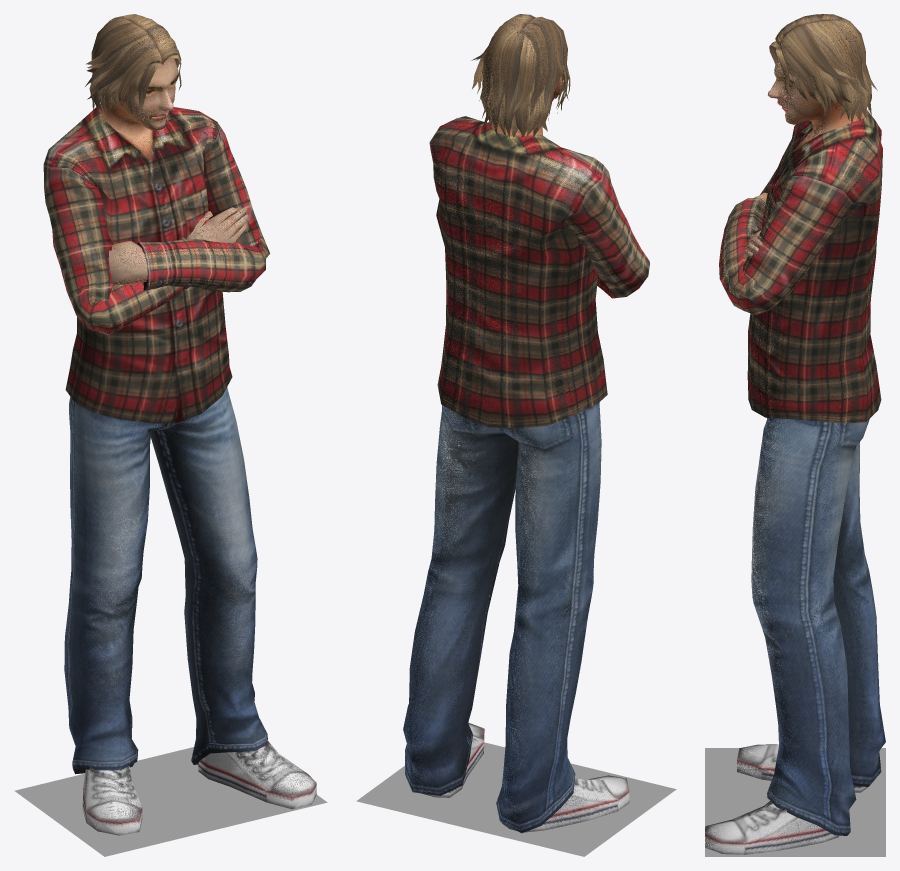
File: Hombre1.obj
The picture shows the model from 3 angles, left to right: view 1: azimuth 30°, elevation 25°; view 2: azimuth 150°, elevation 25°; view 3: azimuth 270°, elevation 25°; orthographic projection. The views are drawn at different scales.
Visible parts, largest first — view 1: 5_6, 2_3, ground_1, 1_2, 54_55, 6_7, 3_4, 9_10, 7_8; view 2: 5_6, 2_3, ground_1, 54_55, 6_7, 1_2; view 3: 5_6, 2_3, ground_1, 54_55, 1_2, 3_4, 6_7, 16_17.
Part boxes in pixels (x1=…): 5_6: x1=64, y1=387, x2=267, y2=774; 2_3: x1=43, y1=103, x2=269, y2=423; ground_1: x1=14, y1=747, x2=327, y2=856; 1_2: x1=198, y1=740, x2=316, y2=809; 54_55: x1=85, y1=14, x2=181, y2=108; 6_7: x1=82, y1=766, x2=142, y2=835; 3_4: x1=99, y1=58, x2=178, y2=138; 9_10: x1=187, y1=206, x2=249, y2=243; 7_8: x1=108, y1=241, x2=147, y2=285; 5_6: x1=403, y1=402, x2=601, y2=833; 2_3: x1=429, y1=116, x2=649, y2=428; ground_1: x1=356, y1=742, x2=676, y2=856; 54_55: x1=471, y1=14, x2=568, y2=117; 6_7: x1=503, y1=775, x2=629, y2=832; 1_2: x1=421, y1=722, x2=484, y2=797; 5_6: x1=751, y1=418, x2=885, y2=835; 2_3: x1=719, y1=110, x2=882, y2=423; ground_1: x1=705, y1=748, x2=885, y2=856; 54_55: x1=775, y1=14, x2=877, y2=106; 1_2: x1=705, y1=801, x2=838, y2=854; 3_4: x1=767, y1=56, x2=864, y2=135; 6_7: x1=737, y1=744, x2=867, y2=792; 16_17: x1=769, y1=41, x2=791, y2=98.
Size of the model in its own units: 55.7 by 184 by 39.1.
Materials: 5 (3 with a texture image).
